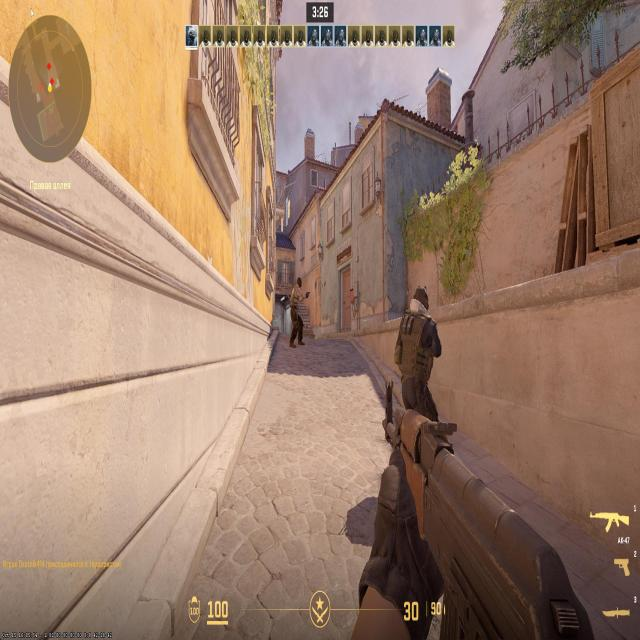CT: (401, 293, 437, 423)
CT_heat: (414, 288, 427, 322)
T: (294, 276, 306, 345)
T_heat: (298, 279, 302, 287)
